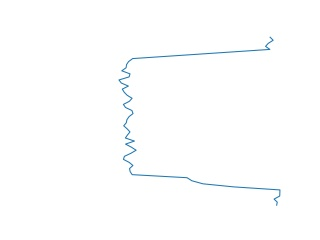distributaryChannelFill: (114, 39, 283, 206)
